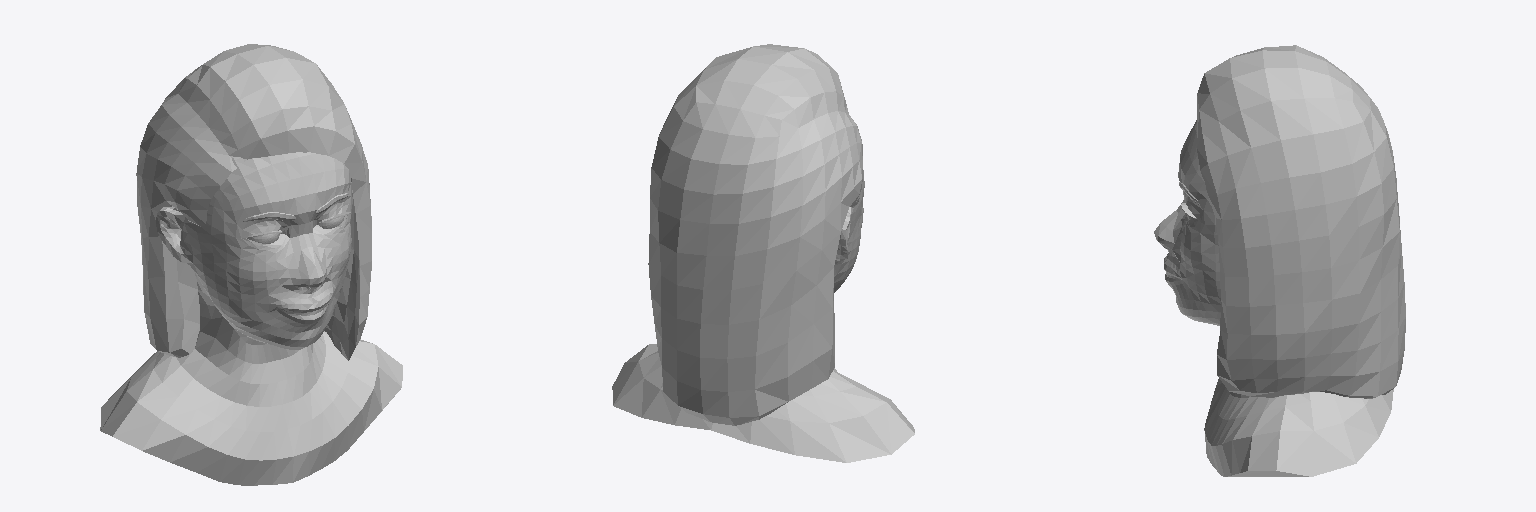
The model's file is VanaLoPoly.obj.
3 renders of one model, left to right at view 1: azimuth 30°, elevation 25°; view 2: azimuth 150°, elevation 25°; view 3: azimuth 270°, elevation 25°, orthographic.
Parts seen in each view (by area): view 1: head_GEO VanaLowPoly, VanaLowPoly hair_GEO; view 2: VanaLowPoly hair_GEO, head_GEO VanaLowPoly; view 3: VanaLowPoly hair_GEO, head_GEO VanaLowPoly.
Part boxes in pixels (left/top/right/bottom): head_GEO VanaLowPoly: left=100, top=152, right=402, bottom=485; VanaLowPoly hair_GEO: left=136, top=44, right=371, bottom=360; VanaLowPoly hair_GEO: left=648, top=44, right=862, bottom=425; head_GEO VanaLowPoly: left=612, top=115, right=914, bottom=462; VanaLowPoly hair_GEO: left=1197, top=45, right=1405, bottom=398; head_GEO VanaLowPoly: left=1154, top=120, right=1393, bottom=476.
Size of the model in its own units: 2.69 by 3.54 by 2.02.